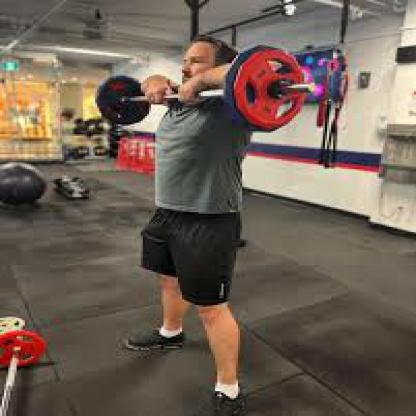Barbell: (218, 40, 312, 138)
